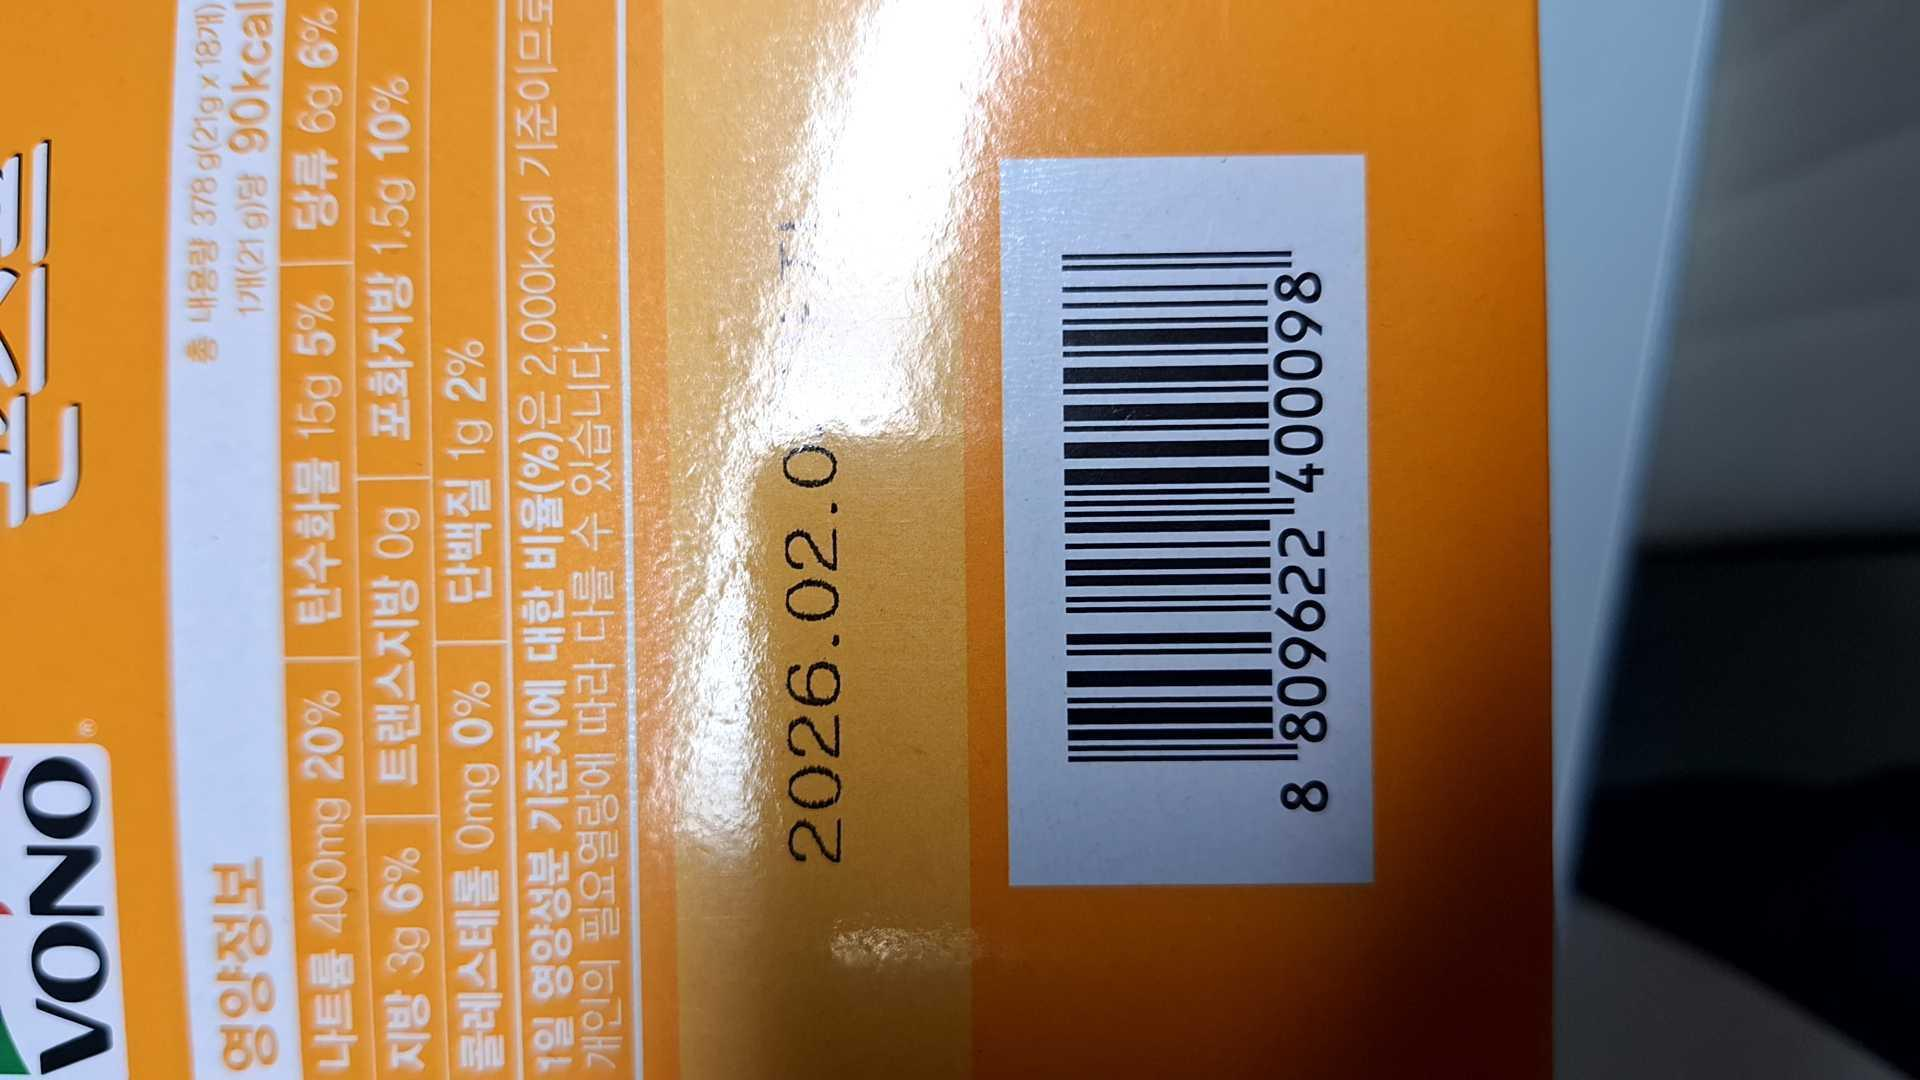cola-2000-2025-7-8: (1023, 239, 1357, 839)
